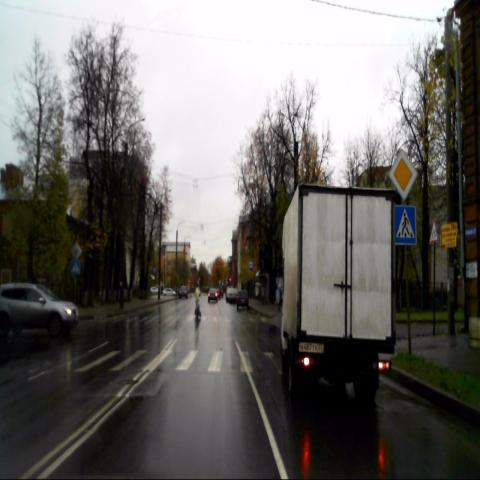1_23: (428, 218, 438, 244)
2_1: (389, 150, 418, 203)
5_19_1: (393, 206, 416, 245), (71, 259, 80, 275)
